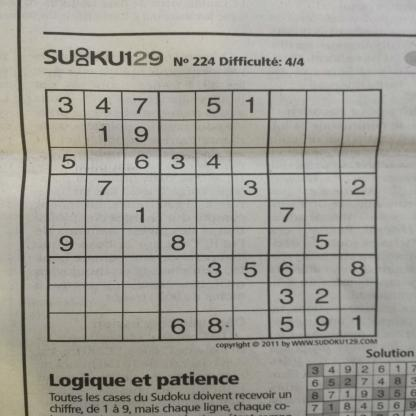sudoku: (42, 85, 388, 346)
